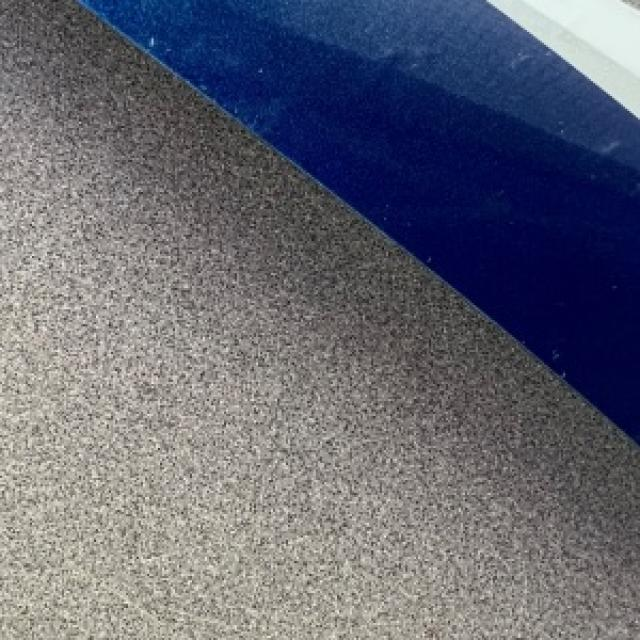healthy: (0, 0, 638, 638), (81, 0, 638, 439)
